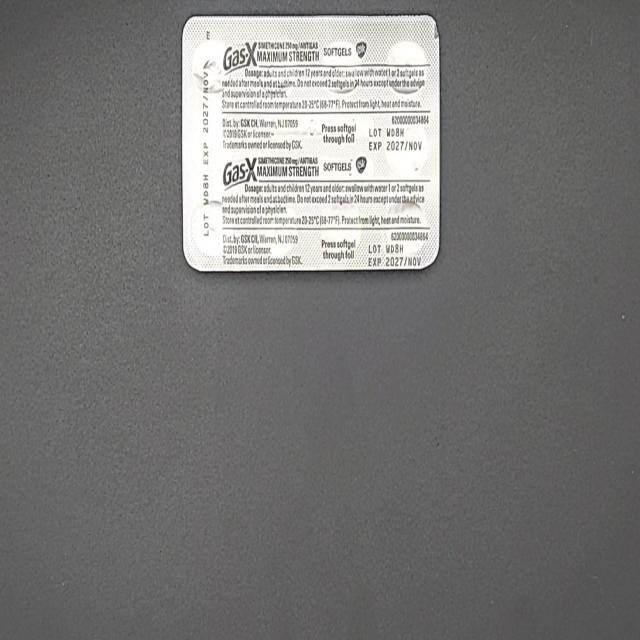no defect: (8, 17, 31, 59)
